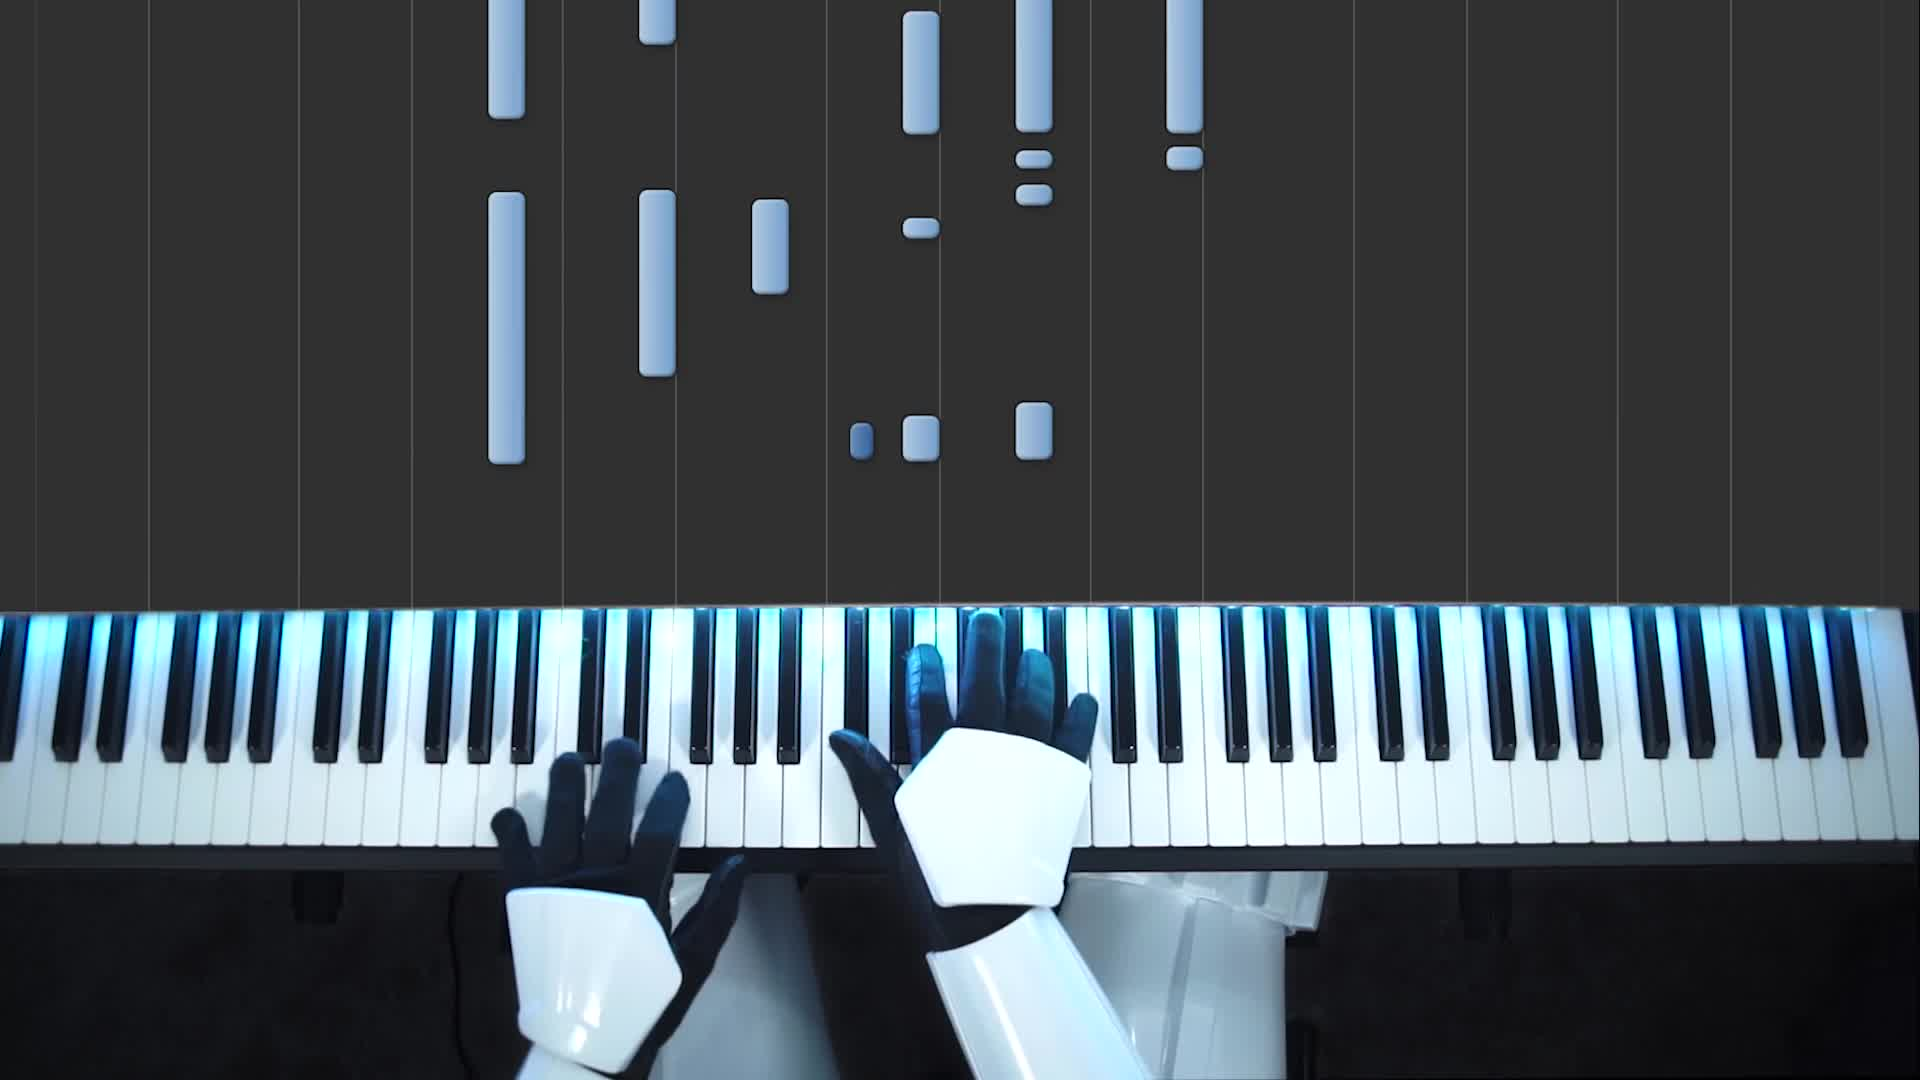left: (484, 737, 744, 1063)
right: (832, 609, 1098, 938)
